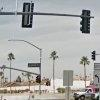Traffic light: (76, 5, 96, 37)
